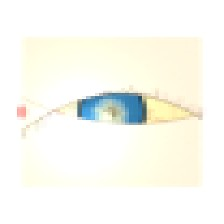corneal_ulcer: (91, 101, 130, 131)
